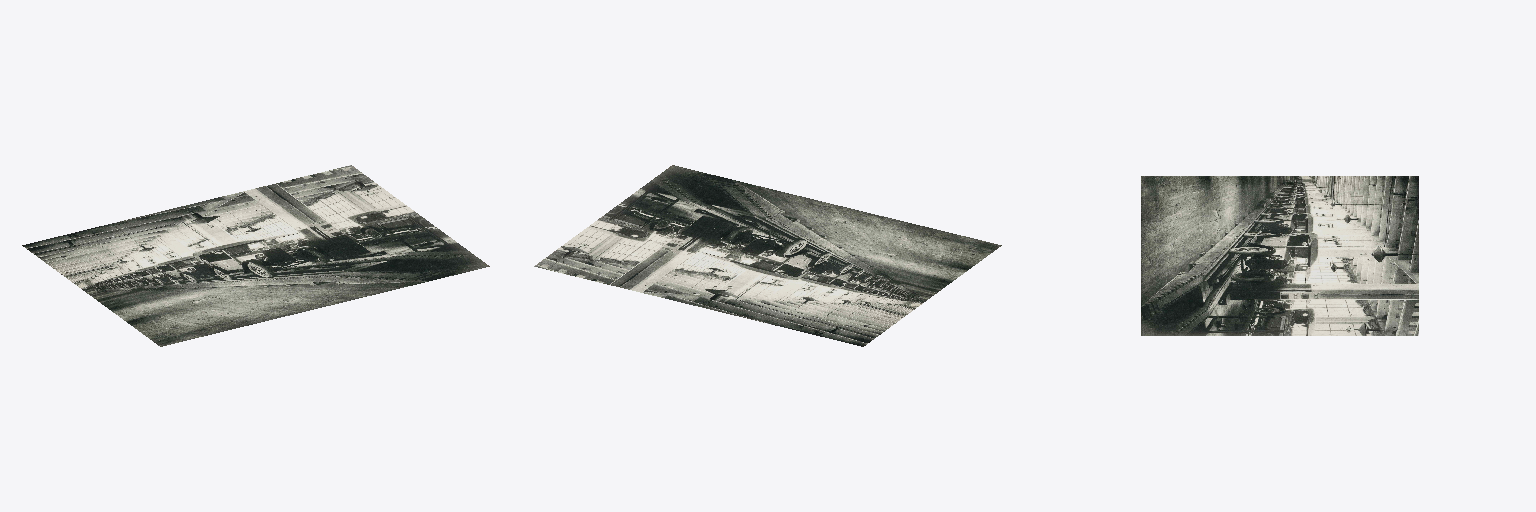
The picture shows the model from 3 angles: view 1: azimuth 30°, elevation 25°; view 2: azimuth 150°, elevation 25°; view 3: azimuth 270°, elevation 25°; orthographic projection.
Visible parts, largest first — view 1: Plane001; view 2: Plane001; view 3: Plane001.
Part boxes in pixels (bbox=[...]): Plane001: bbox=[22, 165, 489, 346]; Plane001: bbox=[534, 165, 1001, 346]; Plane001: bbox=[1141, 176, 1418, 335].
Size of the model in its own units: 15.72 by 0 by 11.46.
1 materials, 1 textured.